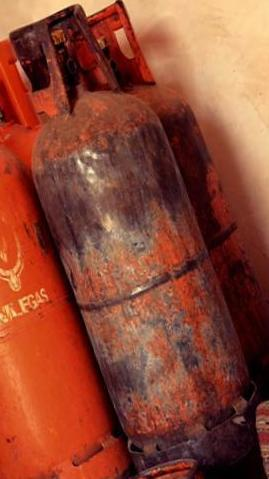cylinder: (1, 0, 269, 479)
